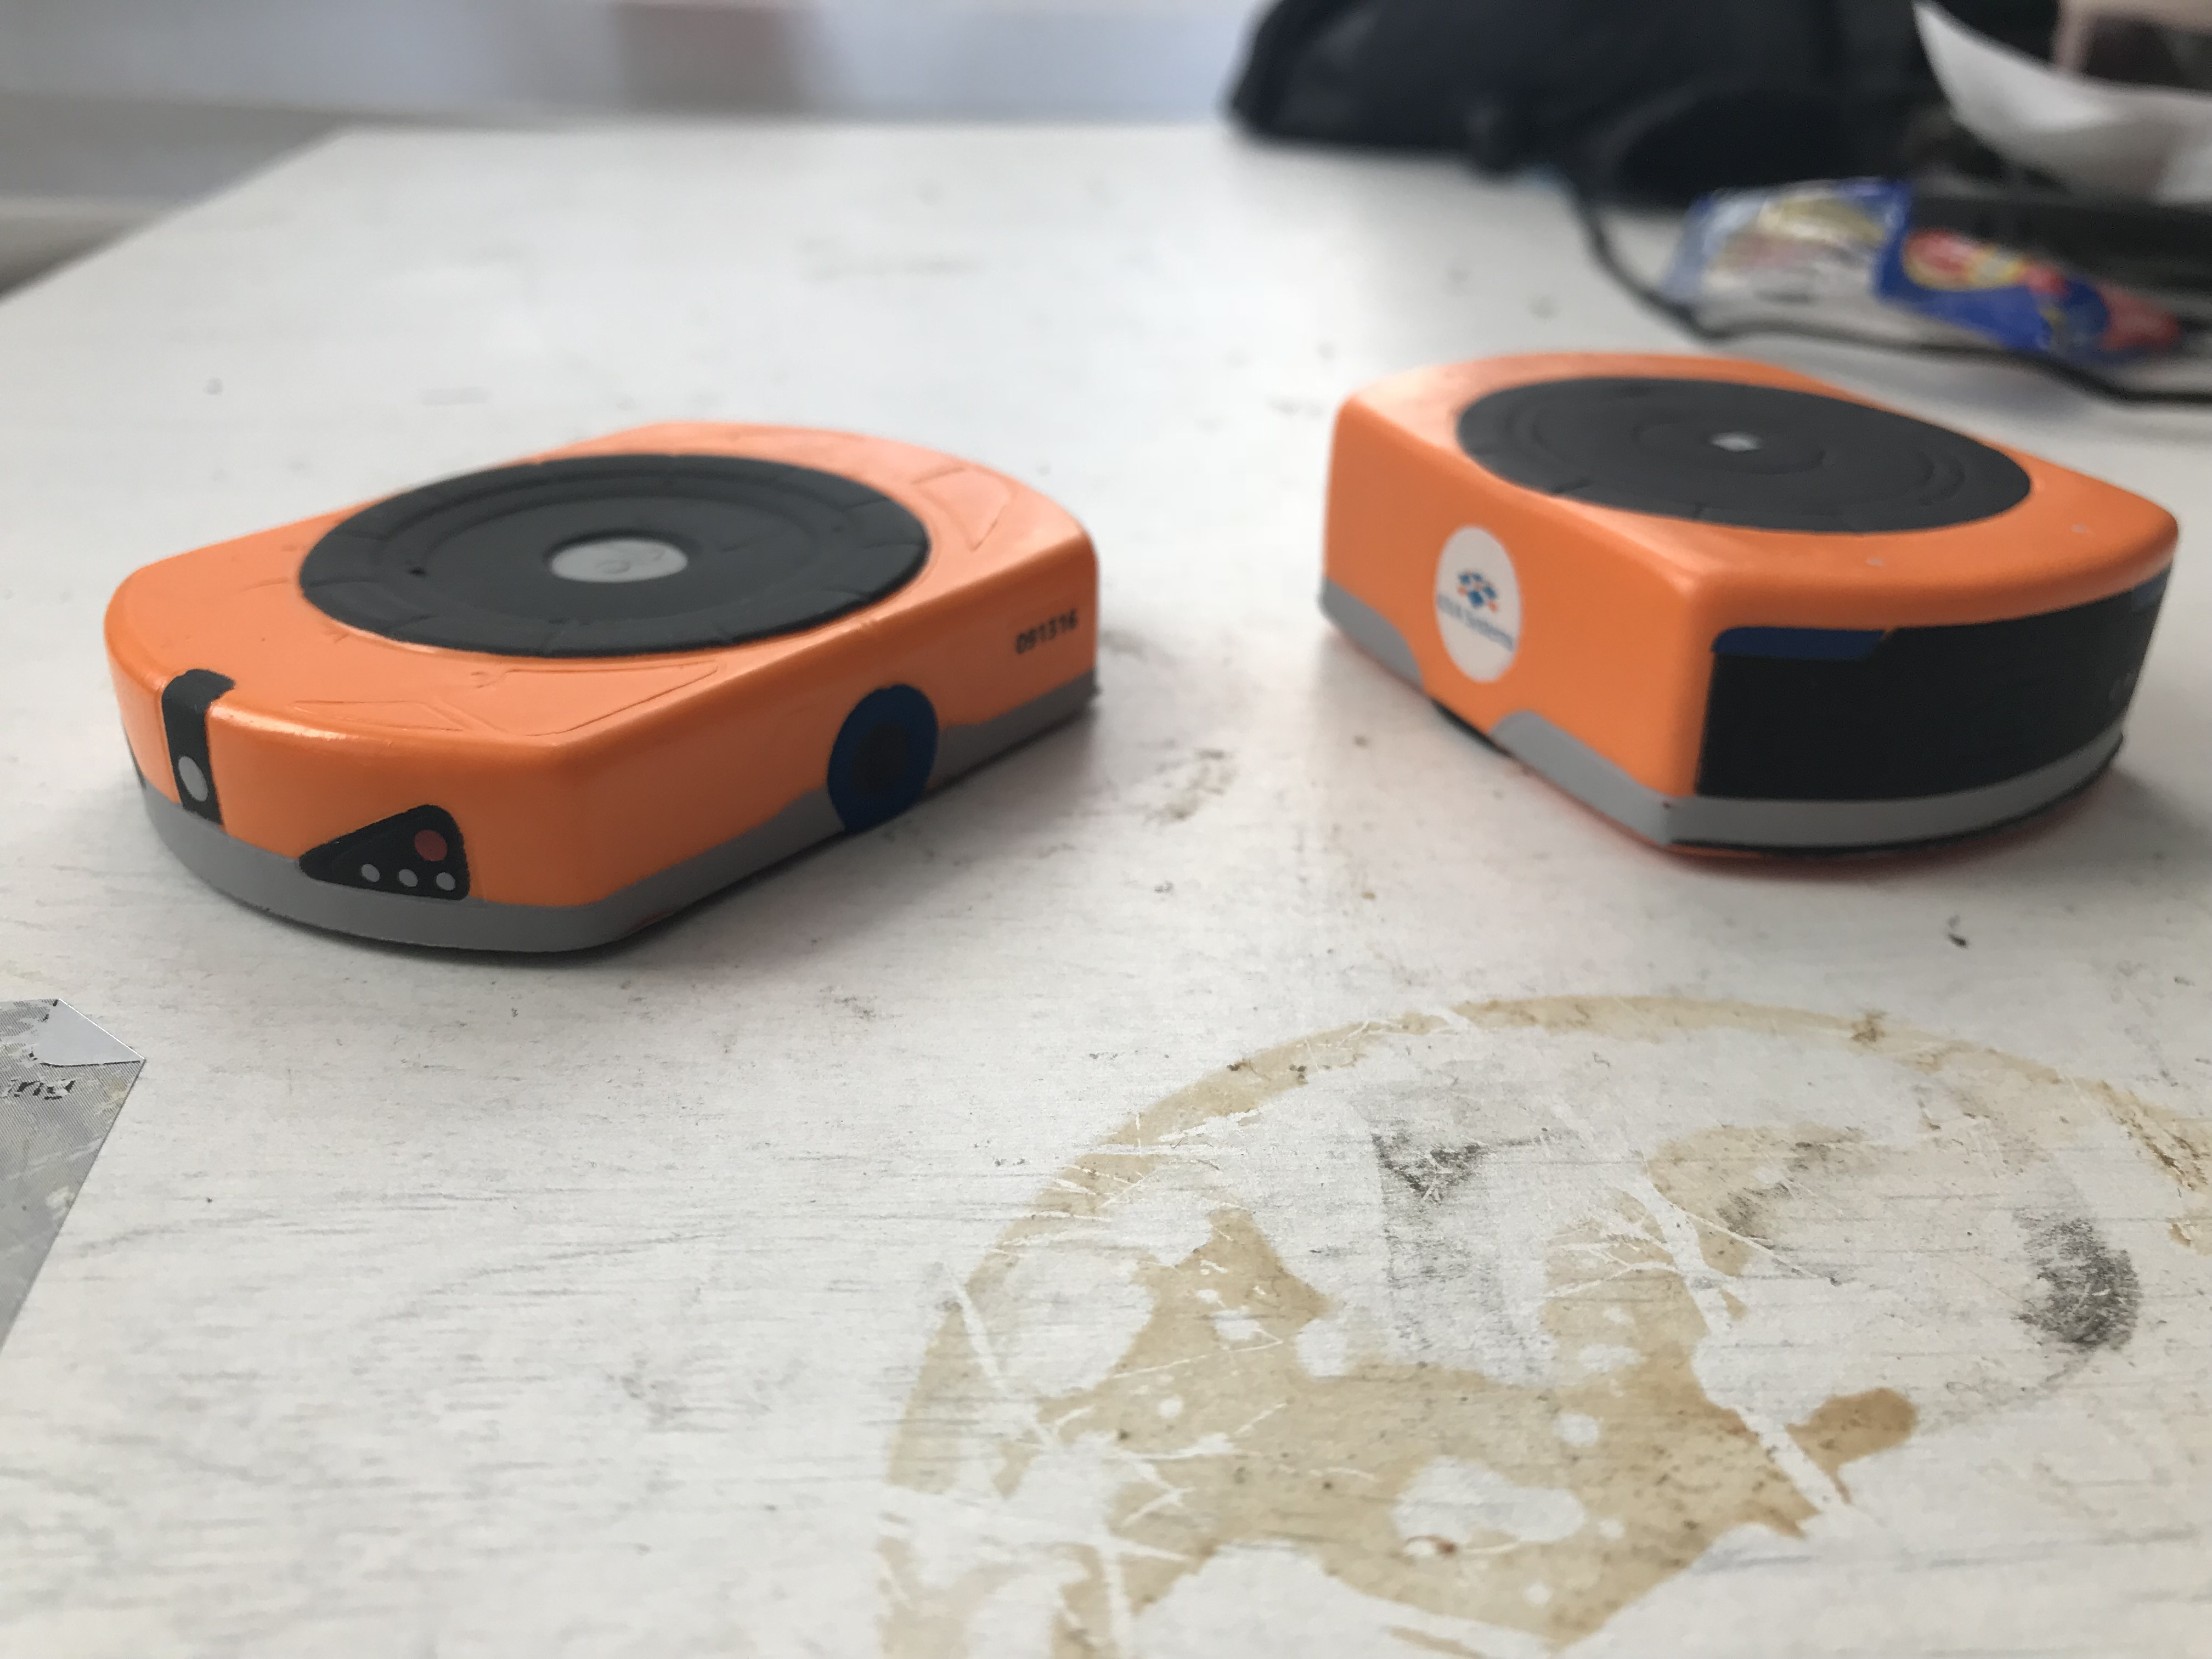amazon_bot: (98, 404, 1130, 1030), (1273, 314, 2212, 946)
